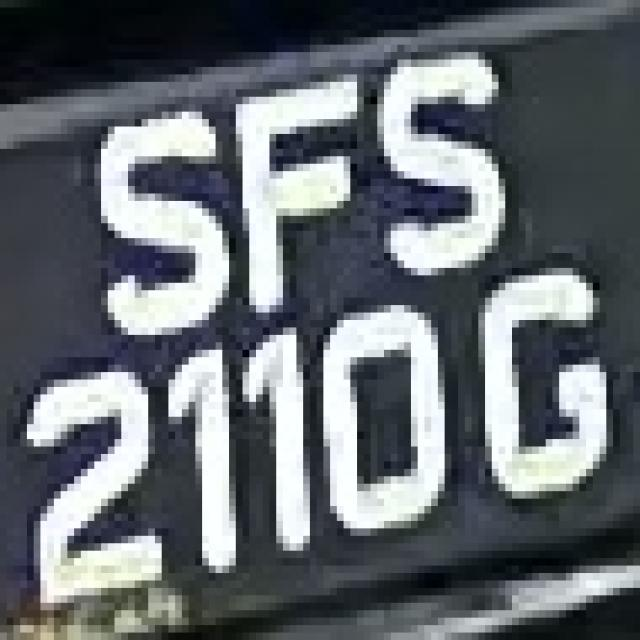0: (310, 290, 458, 558)
1: (175, 350, 263, 595), (249, 290, 310, 580)
2: (27, 342, 175, 618)
F: (216, 67, 377, 320)
G: (478, 261, 606, 514)
S: (68, 82, 242, 357), (357, 37, 526, 298)
